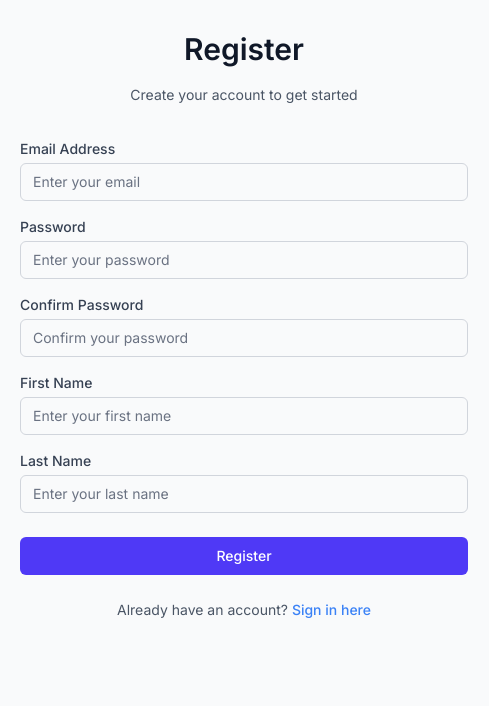
Test: RegisterPage › Form Validation › should show validation errors for empty required fields
Click the button "Register".
click(244, 556)  # box [20, 537, 468, 575]
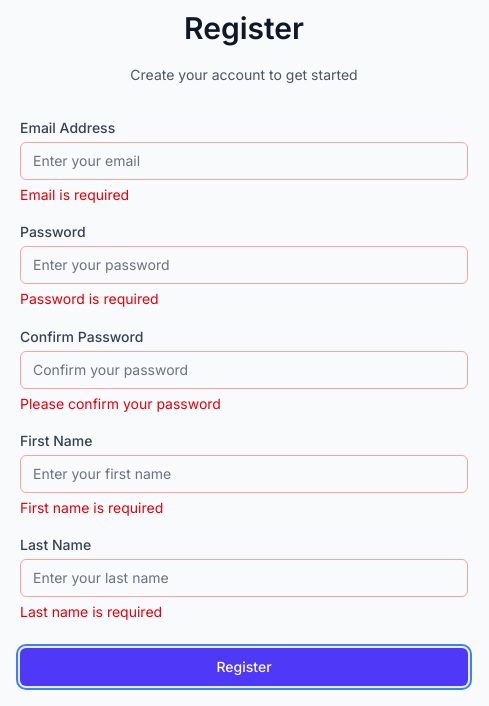
Expected: the text "Email is required" is shown, [20, 186, 129, 203]
Expected: the text "Password is required" is shown, [20, 290, 159, 307]
Expected: the text "First name is required" is shown, [20, 499, 163, 516]
